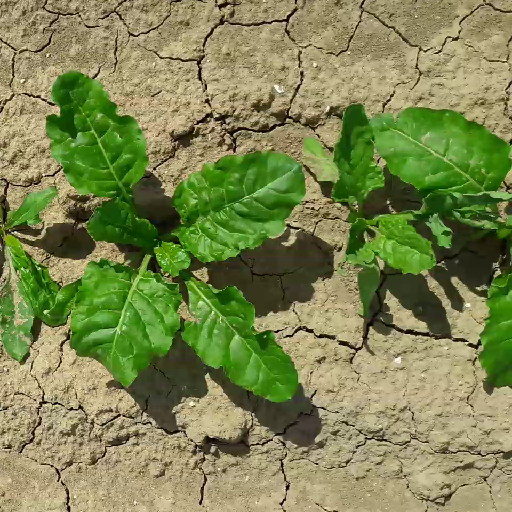sugarbeet: (44, 70, 308, 404), (364, 105, 512, 389), (294, 95, 449, 319), (1, 187, 69, 369)
